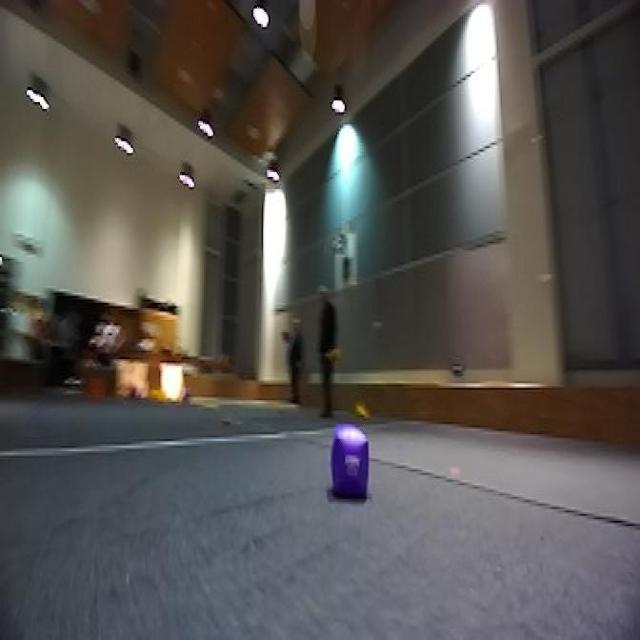frc_cone: (352, 395, 370, 419), (144, 384, 166, 402), (325, 344, 342, 364)
frc_cube: (328, 428, 372, 500), (125, 383, 139, 400), (183, 386, 195, 404)
